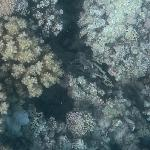dead: (1, 32, 143, 147)
